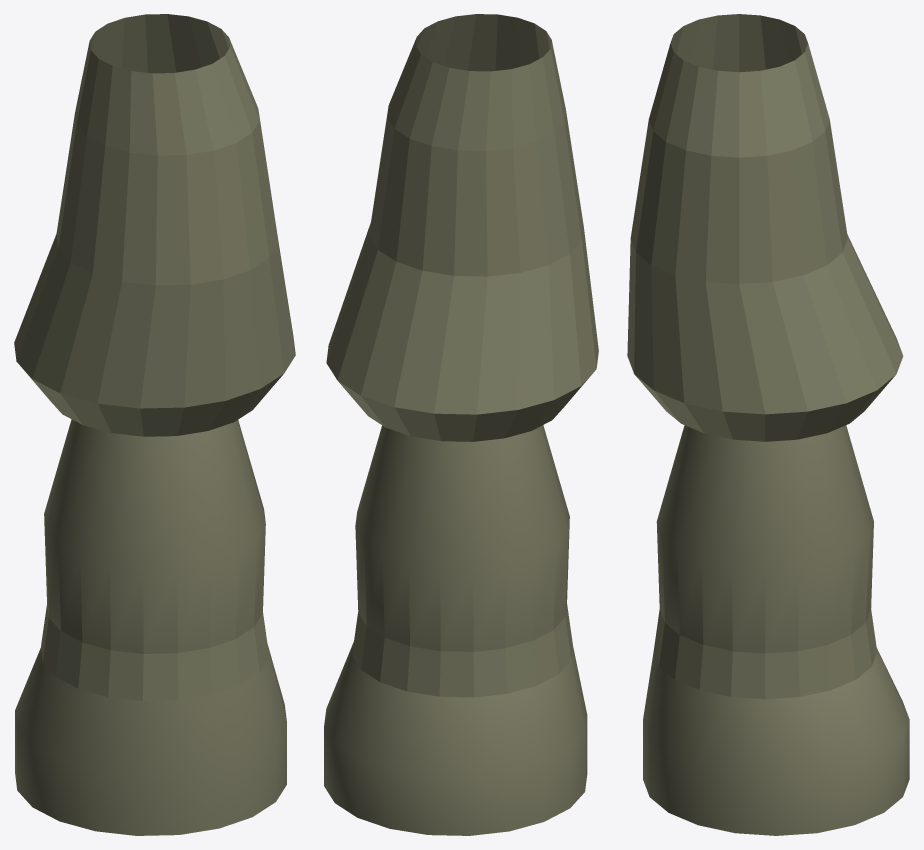
The model's file is RockPillar.fbx.
The picture shows the model from 3 angles, left to right: view 1: azimuth 30°, elevation 25°; view 2: azimuth 150°, elevation 25°; view 3: azimuth 270°, elevation 25°; orthographic projection. The views are drawn at different scales.
Parts seen in each view (by area): view 1: pCylinder3; view 2: pCylinder3; view 3: pCylinder3.
Boxes of the visible parts, x1,y1,x2,y2 form: pCylinder3: (14, 14, 295, 835); pCylinder3: (324, 14, 598, 835); pCylinder3: (627, 14, 909, 835).
Bounding box in the file's own units: 2.07 × 6.06 × 2.12.
